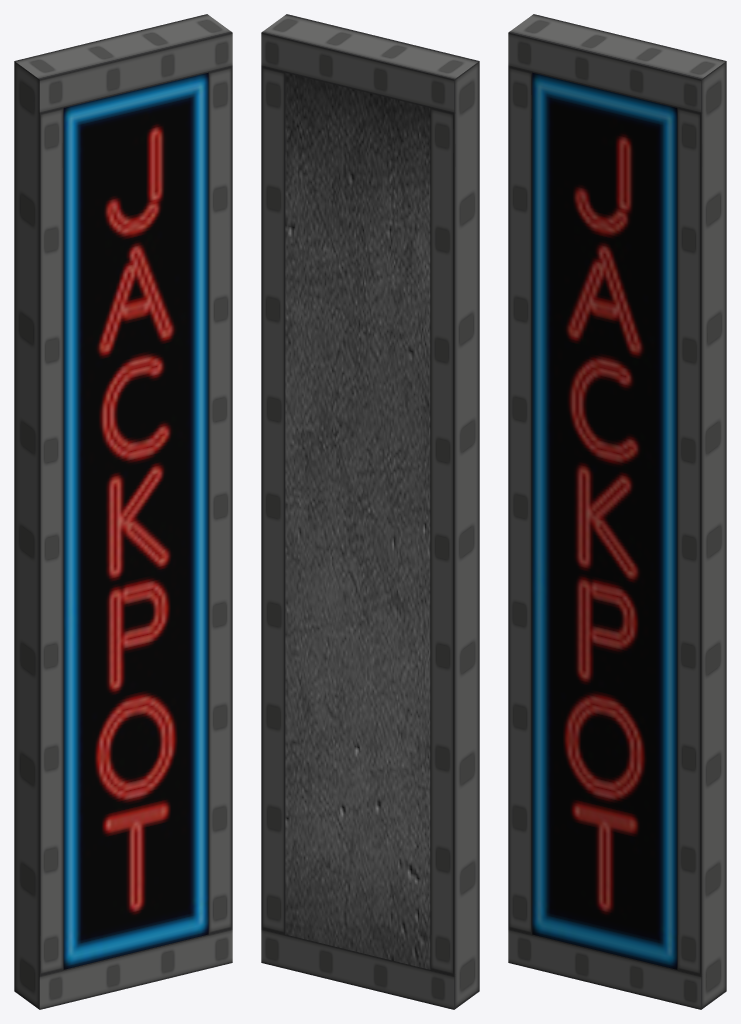
The model's file is sign board19.FBX.
3 views of the same model, side by side, from view 1: azimuth 30°, elevation 25°; view 2: azimuth 150°, elevation 25°; view 3: azimuth 330°, elevation 25° (orthographic).
Visible parts, largest first — view 1: sign board19; view 2: sign board19; view 3: sign board19.
Part boxes in pixels (bbox=[...]): sign board19: bbox=[14, 14, 232, 1009]; sign board19: bbox=[261, 14, 479, 1009]; sign board19: bbox=[508, 14, 726, 1009].
Bounding box in the file's own units: 2.6 × 12 × 0.5925.
